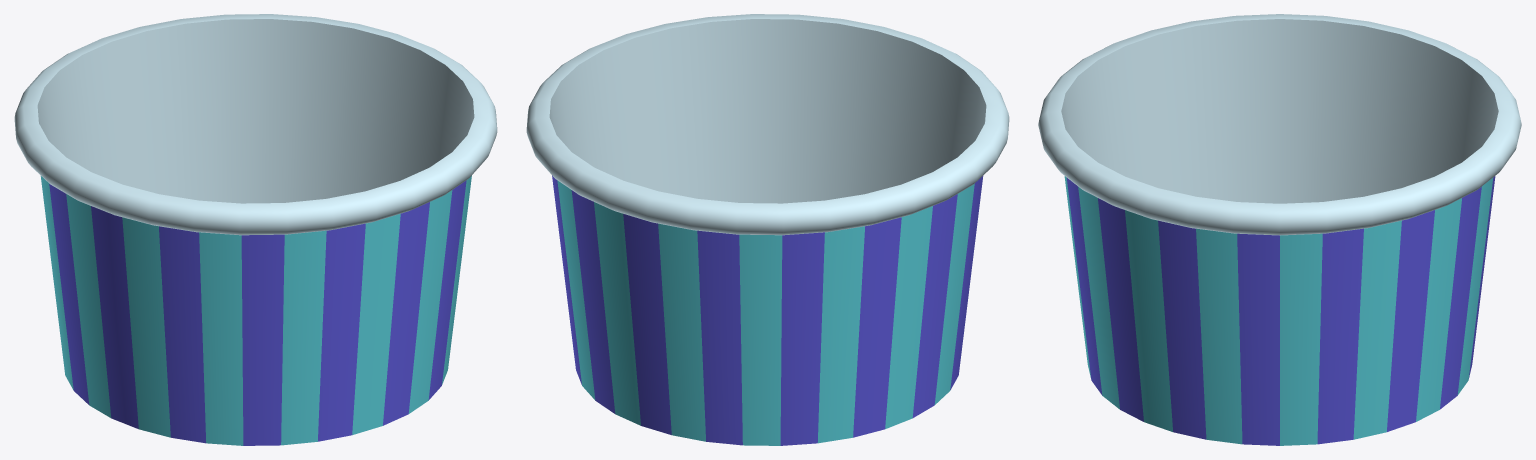
File: Cup Ice Cream O.fbx
The picture shows the model from 3 angles, left to right: view 1: azimuth 30°, elevation 25°; view 2: azimuth 150°, elevation 25°; view 3: azimuth 270°, elevation 25°; orthographic projection.
Visible parts, largest first — view 1: Cup Ice Cream O; view 2: Cup Ice Cream O; view 3: Cup Ice Cream O.
Boxes of the visible parts, left/top/right/bottom form: Cup Ice Cream O: left=14, top=14, right=497, bottom=445; Cup Ice Cream O: left=526, top=14, right=1009, bottom=445; Cup Ice Cream O: left=1038, top=14, right=1521, bottom=445.
Bounding box in the file's own units: 0.7274 × 0.4205 × 0.7274.
